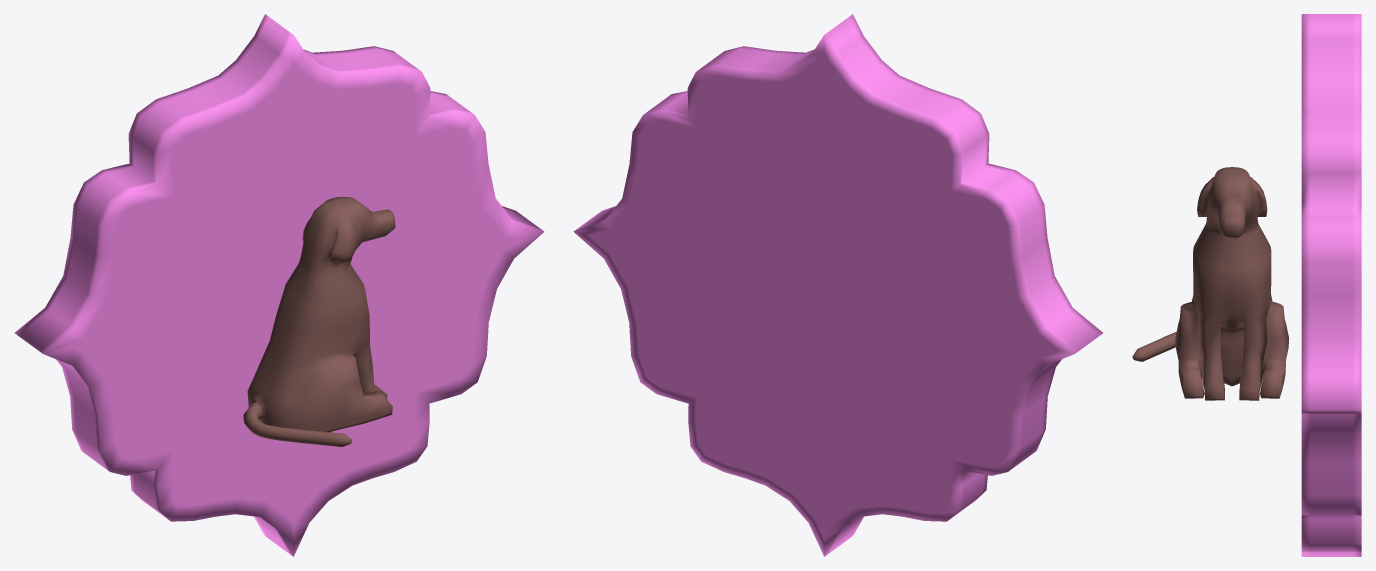
The model's file is Dog_Icon.glb.
3 renders of one model, left to right at view 1: azimuth 30°, elevation 25°; view 2: azimuth 150°, elevation 25°; view 3: azimuth 270°, elevation 25°, orthographic. The views are drawn at different scales.
Parts seen in each view (by area): view 1: Cube.003, DOG; view 2: Cube.003; view 3: Cube.003, DOG.
Boxes of the visible parts, box(x1,y1,x2,y2) form: Cube.003: box(15, 14, 544, 556); DOG: box(243, 197, 395, 446); Cube.003: box(573, 14, 1102, 556); Cube.003: box(1301, 14, 1361, 556); DOG: box(1132, 167, 1288, 400).
Bounding box in the file's own units: 6.22 × 6.19 × 2.37.
